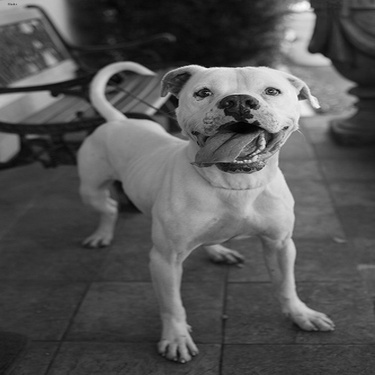dog: (76, 58, 340, 364)
